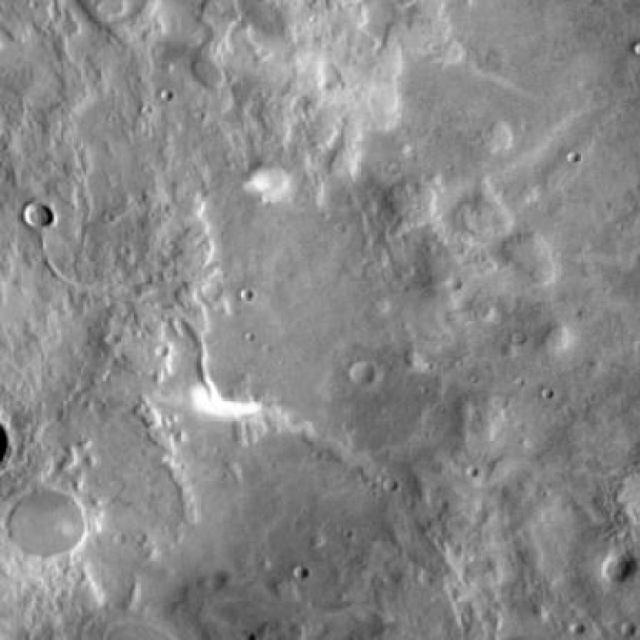crater: (22, 198, 52, 224), (602, 551, 630, 575), (352, 354, 378, 378)
